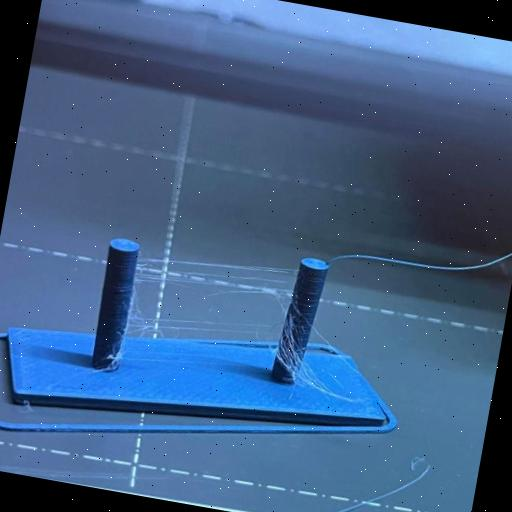stringing: (124, 238, 314, 306), (122, 300, 296, 356)
